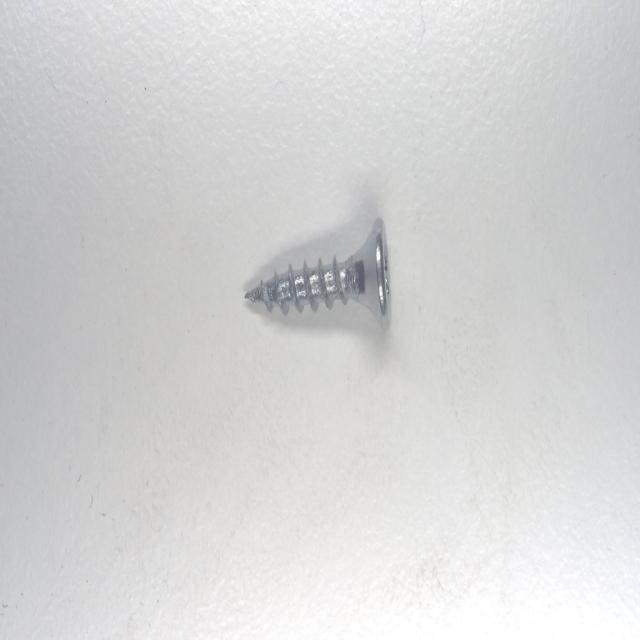Screw: (245, 217, 391, 329)
